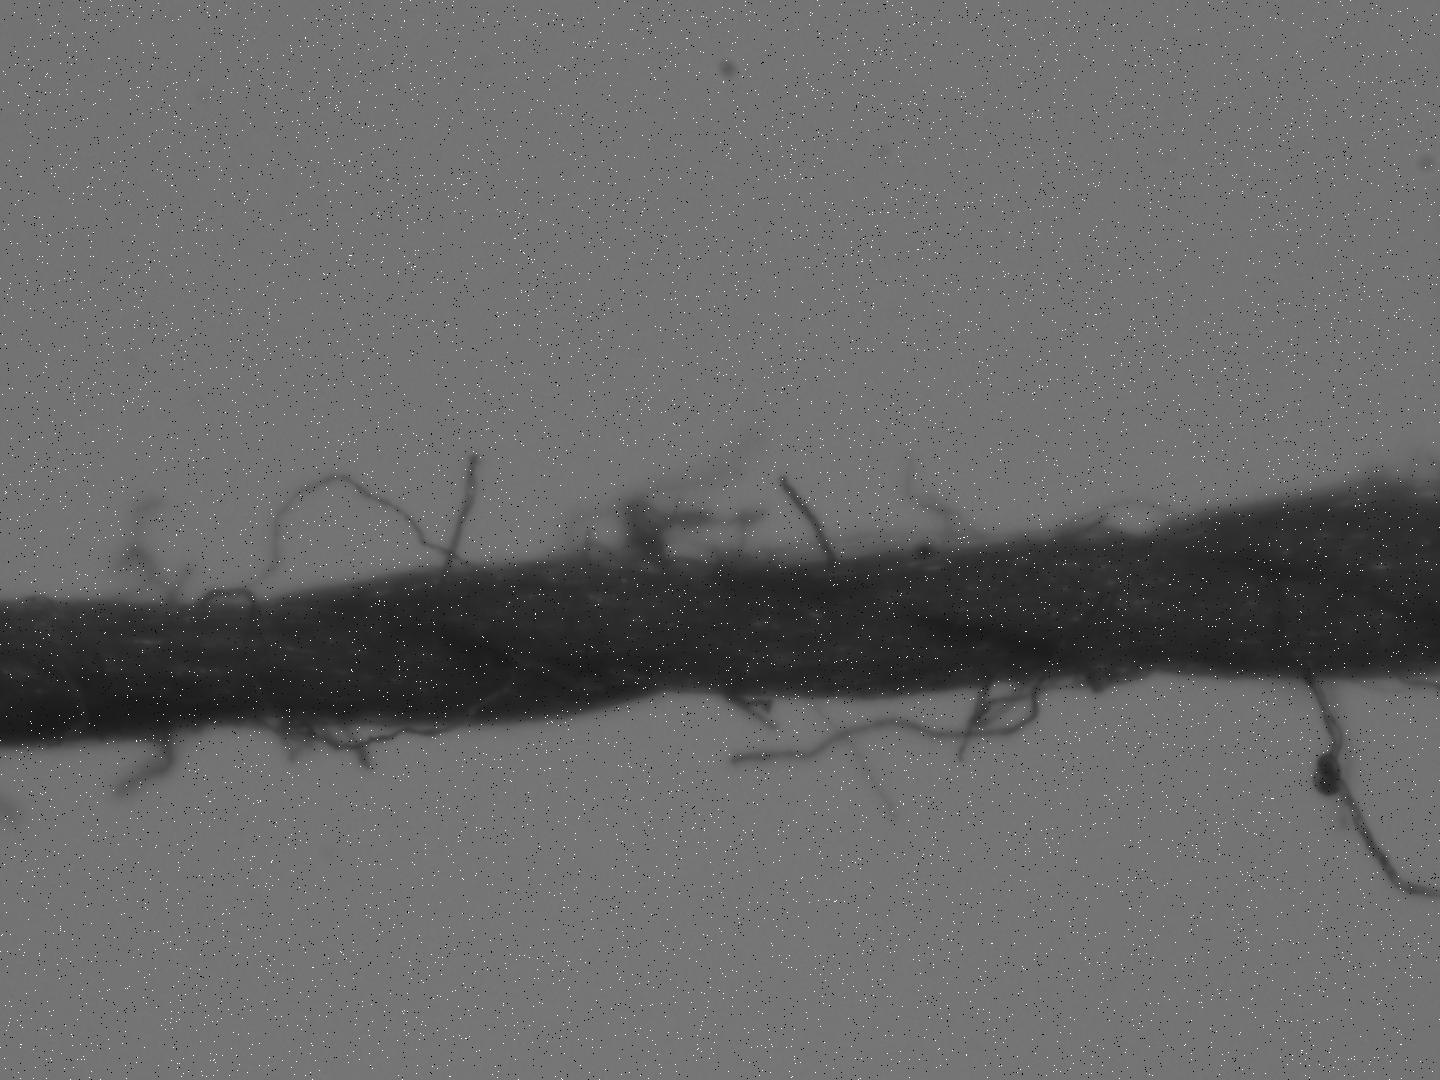loop_fiber: (702, 495, 1181, 569), (948, 670, 1157, 771), (562, 496, 768, 577), (240, 711, 471, 776), (183, 579, 265, 615)
protruding_fiber: (715, 674, 1051, 774), (1303, 677, 1439, 901), (261, 470, 484, 584), (801, 690, 903, 830), (115, 493, 185, 600), (773, 472, 837, 572), (437, 456, 480, 583), (111, 734, 178, 799), (715, 690, 777, 735)
